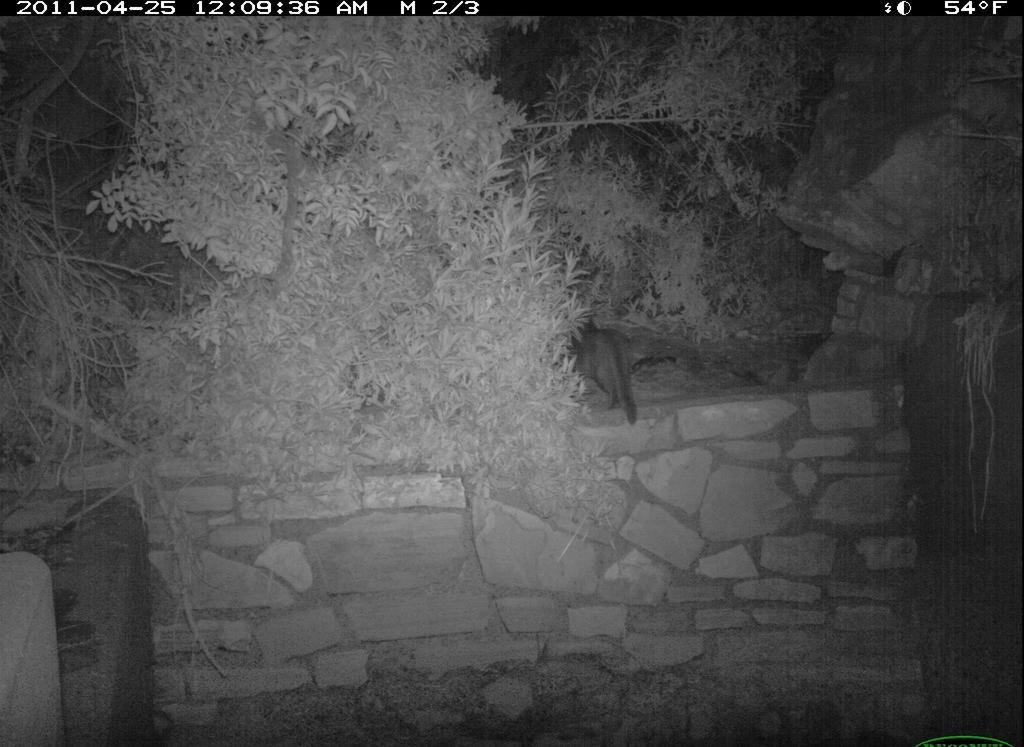cat: (559, 300, 644, 424)
